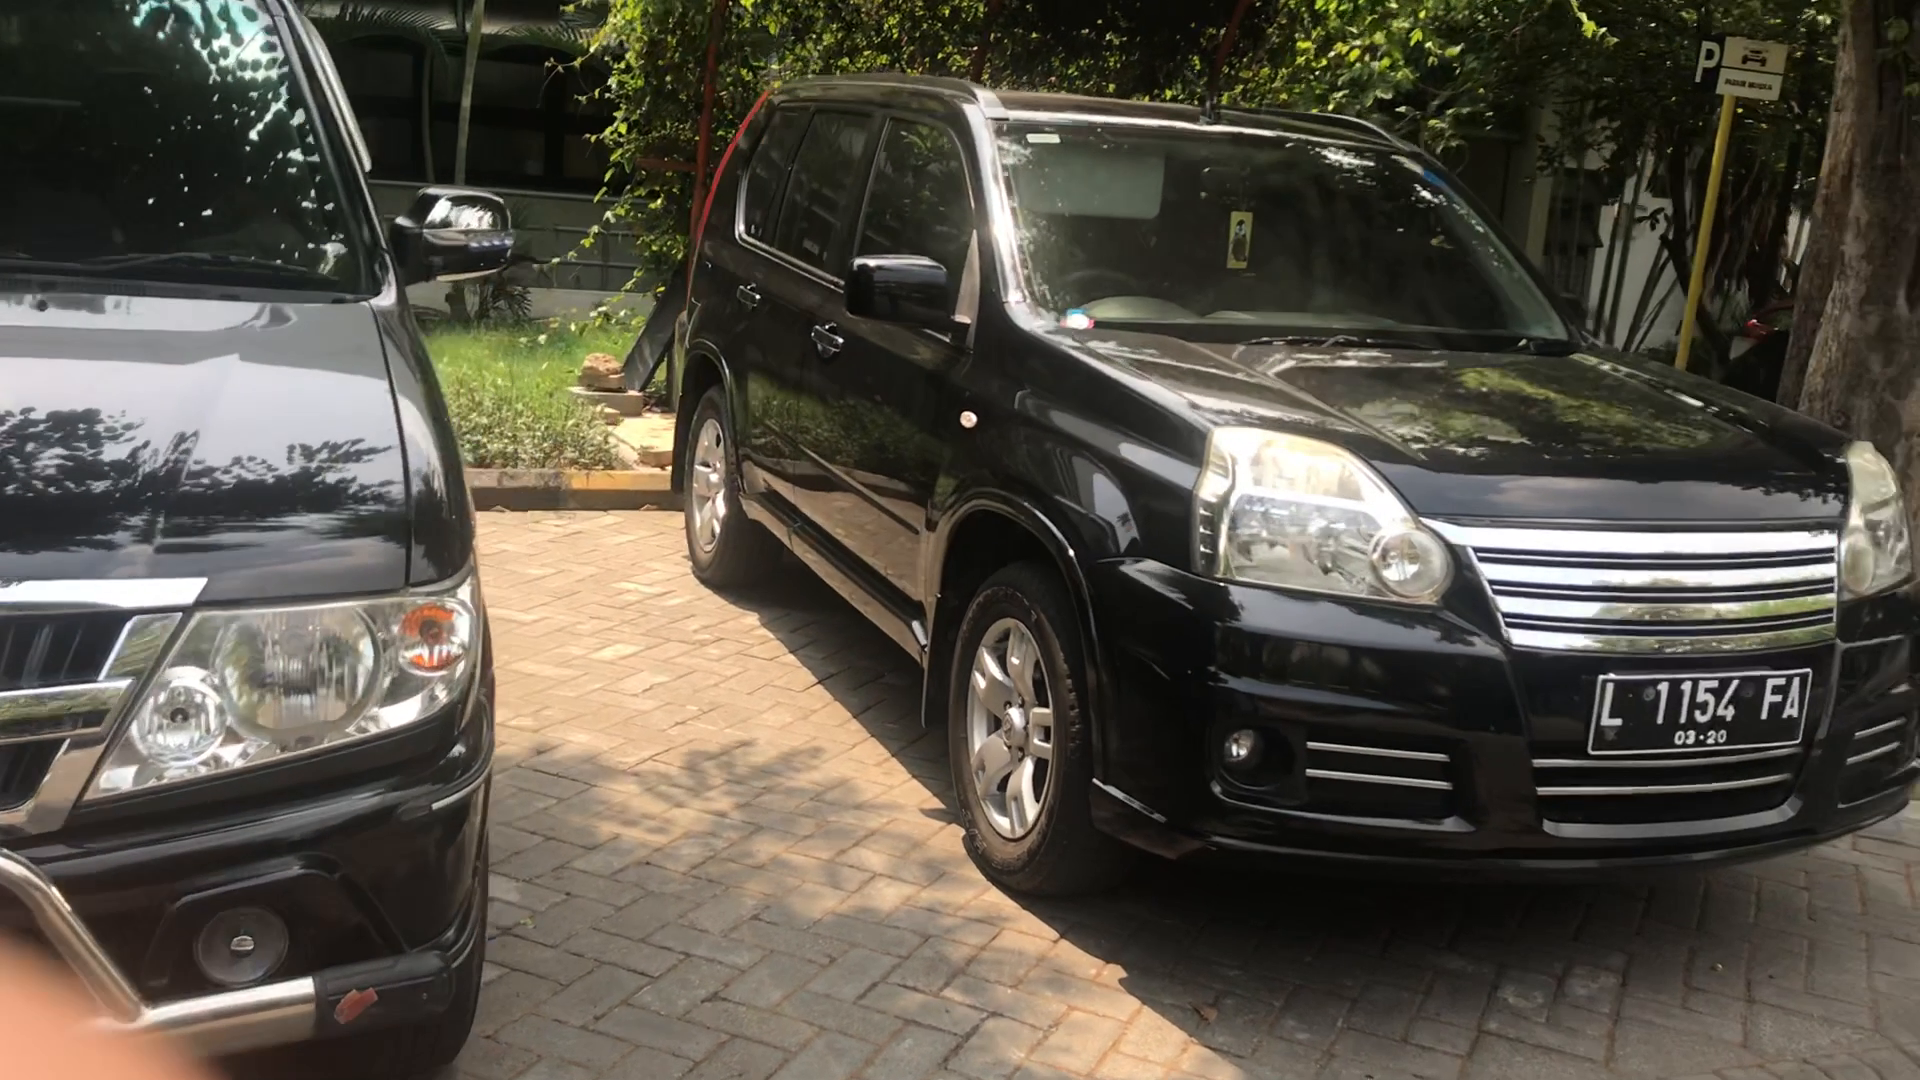plate: (1597, 672, 1812, 755)
